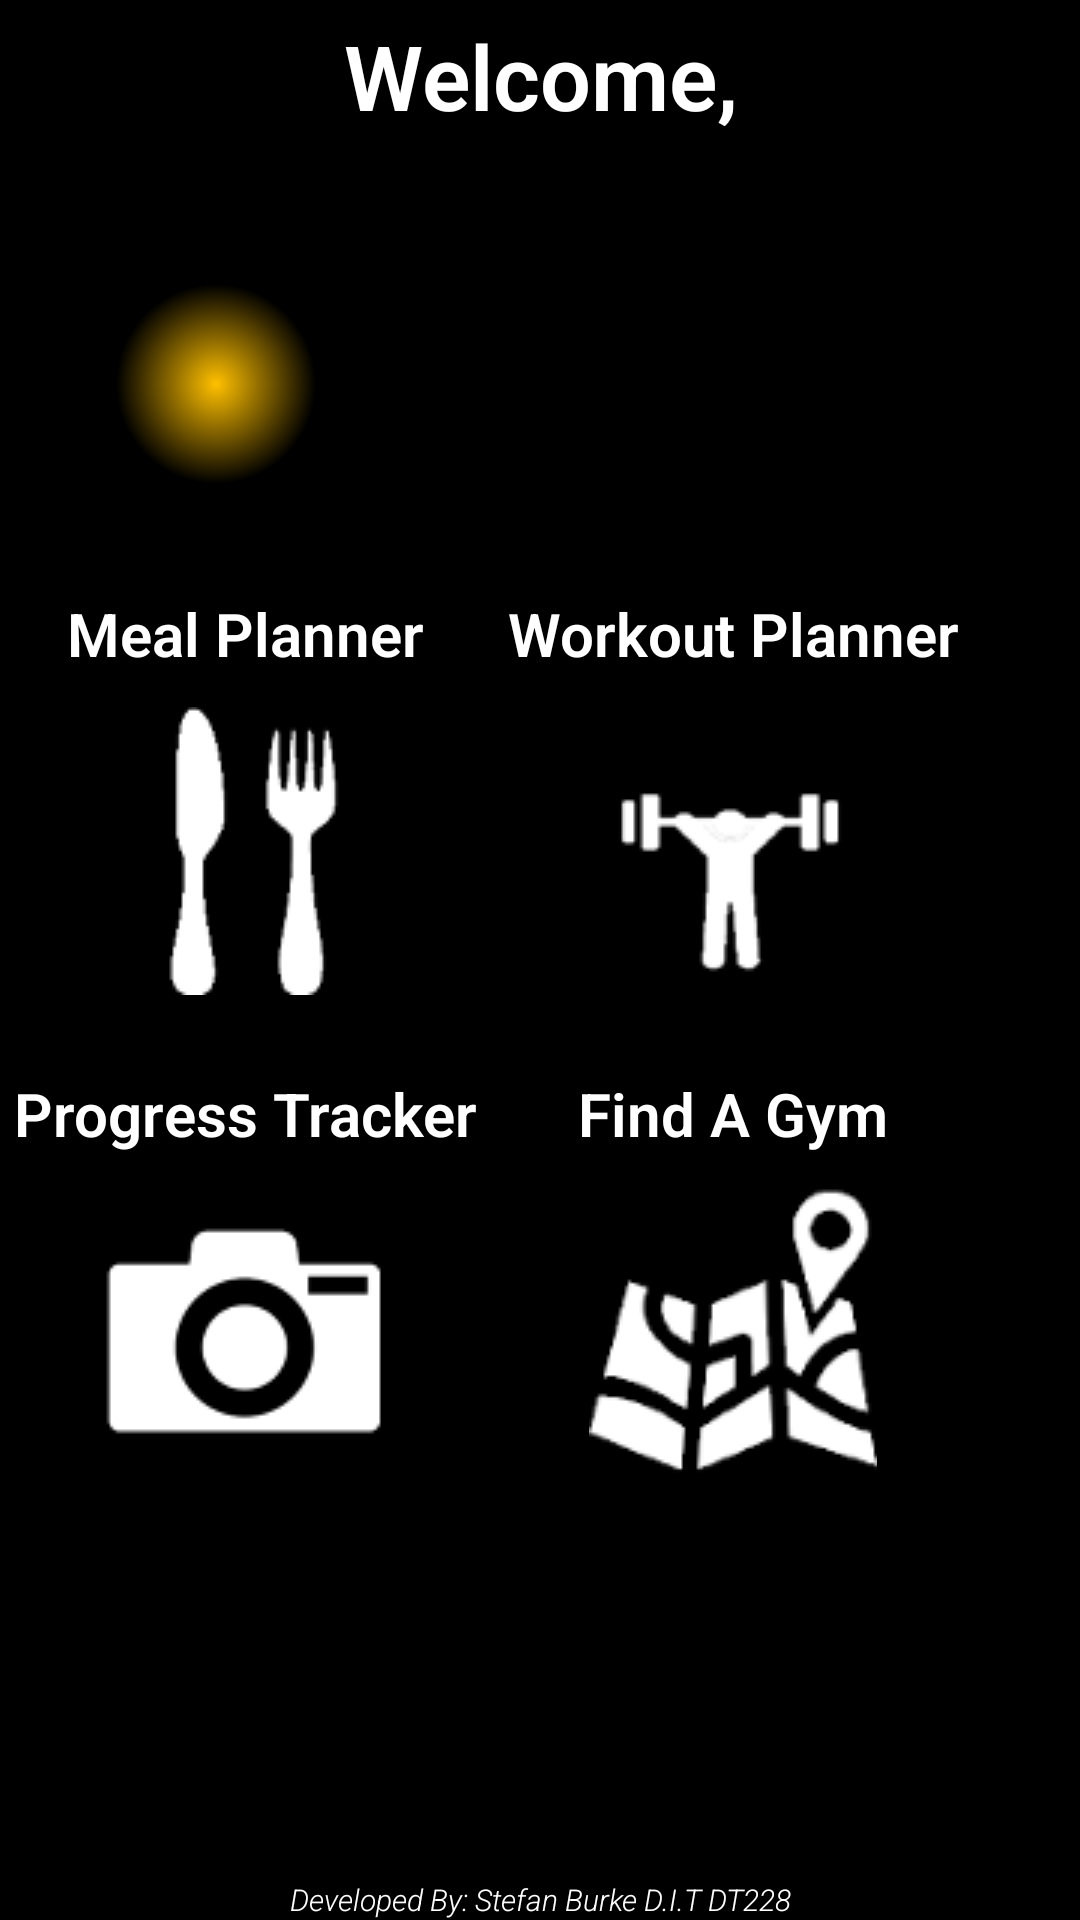

Icon click points for this 1080 x 1920 phone screenshot, format [x,y]:
camera: [243,1331]
knifefork: [253,851]
map: [733,1329]
weight: [730,882]
